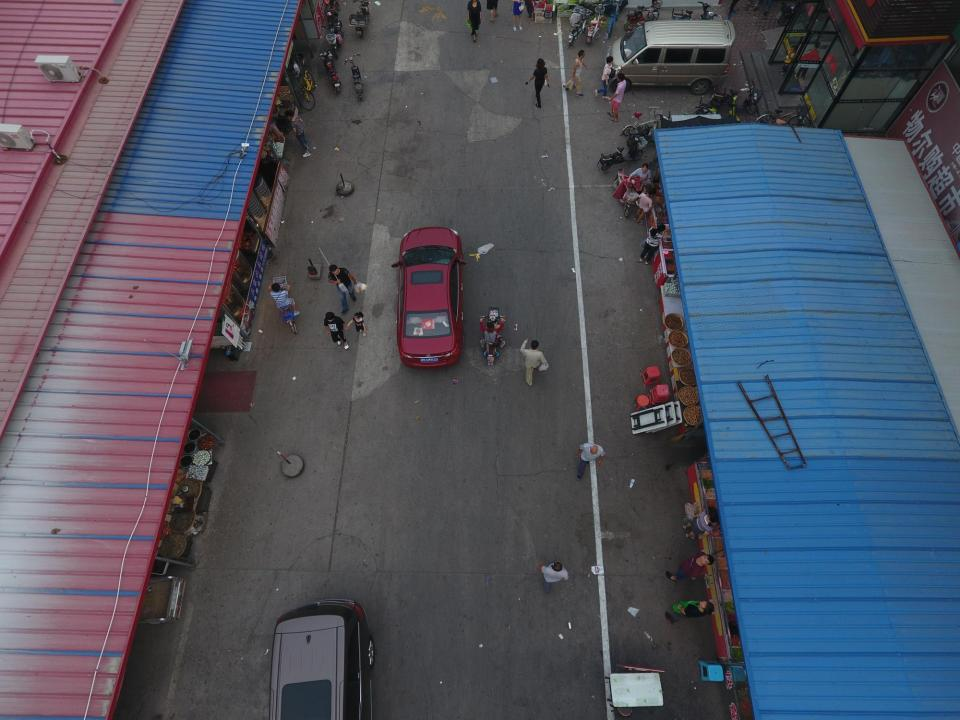car: (266, 600, 376, 720), (386, 225, 466, 369)
van: (600, 18, 737, 96)
